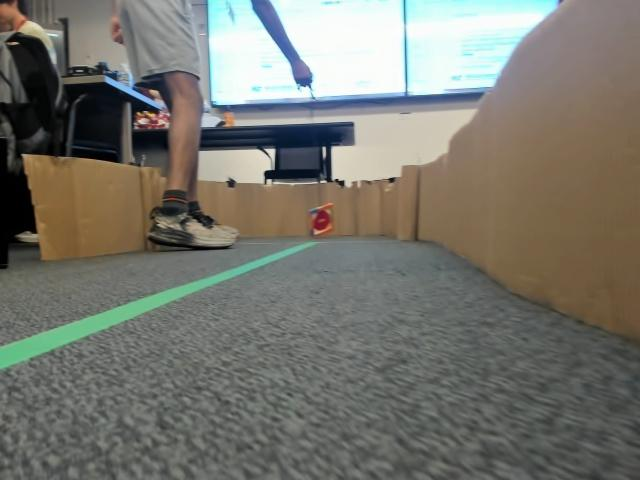Stop: (311, 213, 328, 231)
